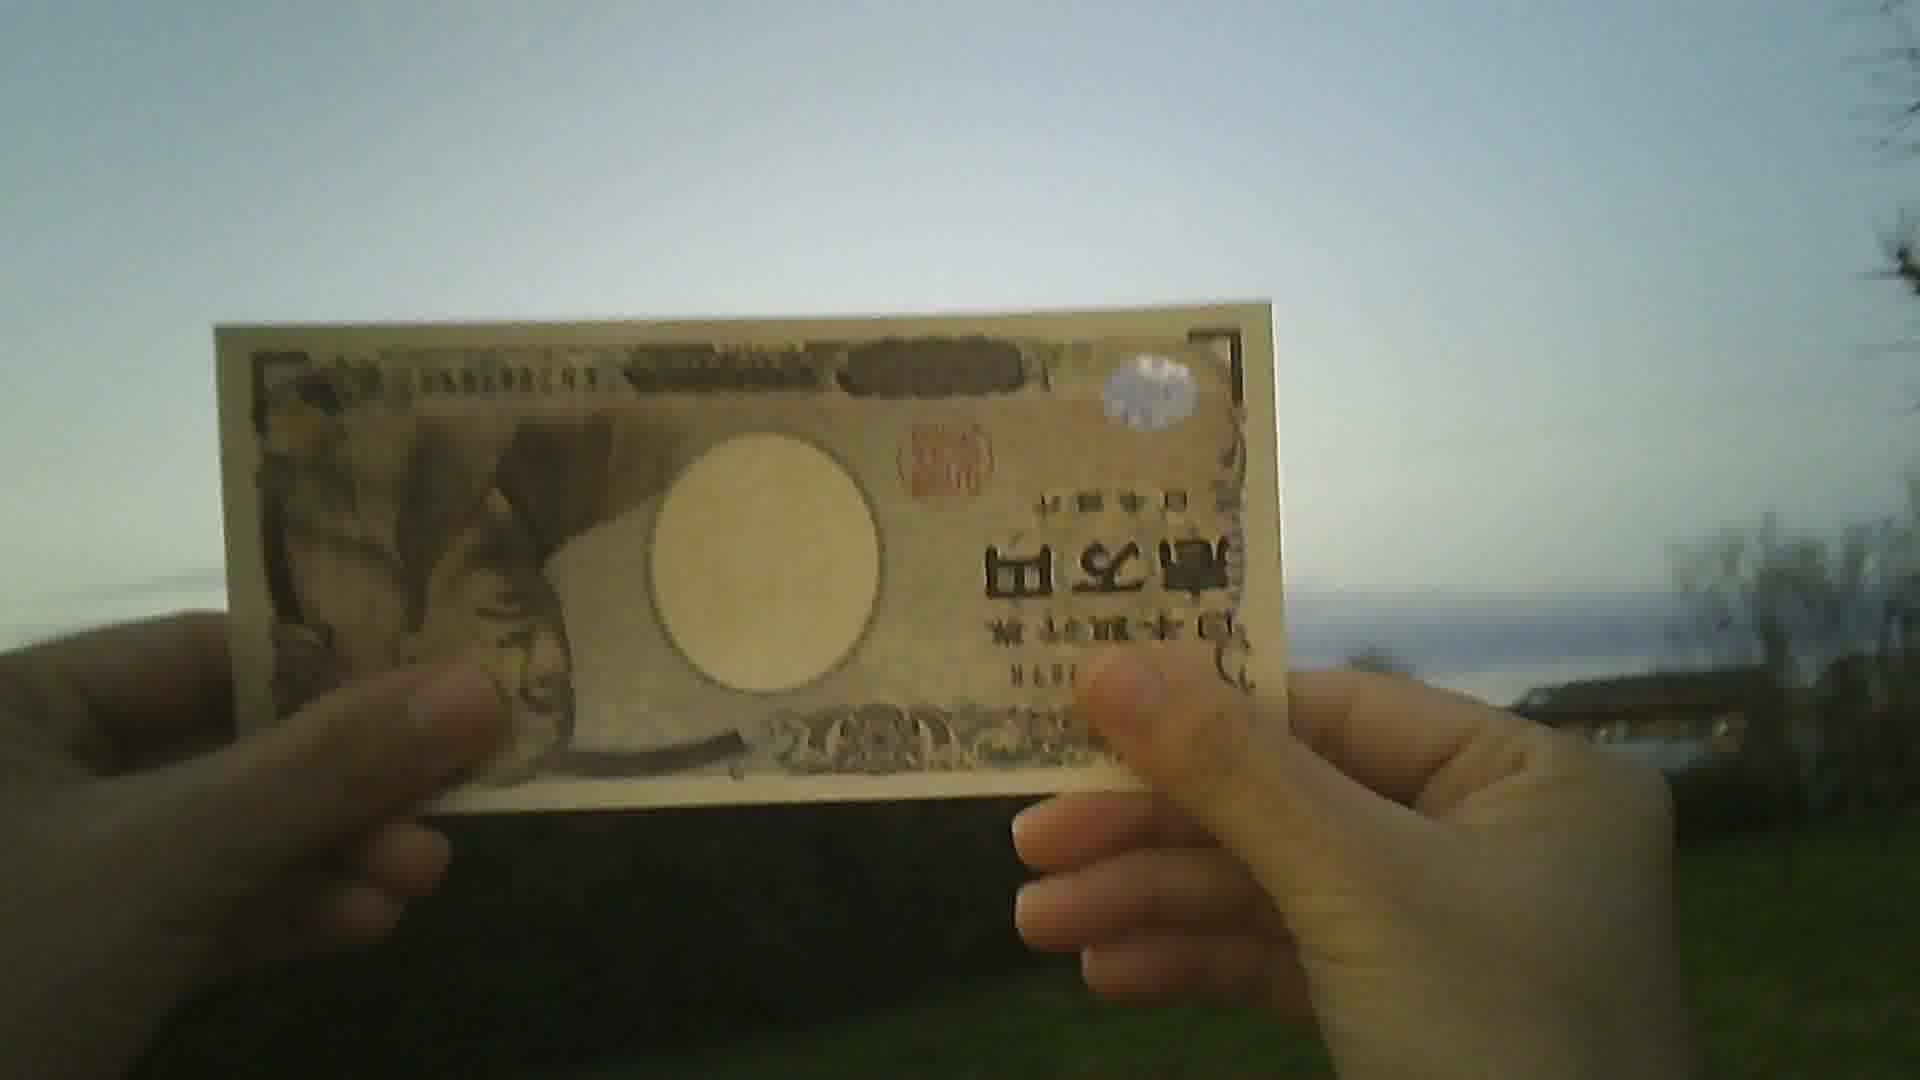10,000 Yen: (182, 282, 1344, 819)
